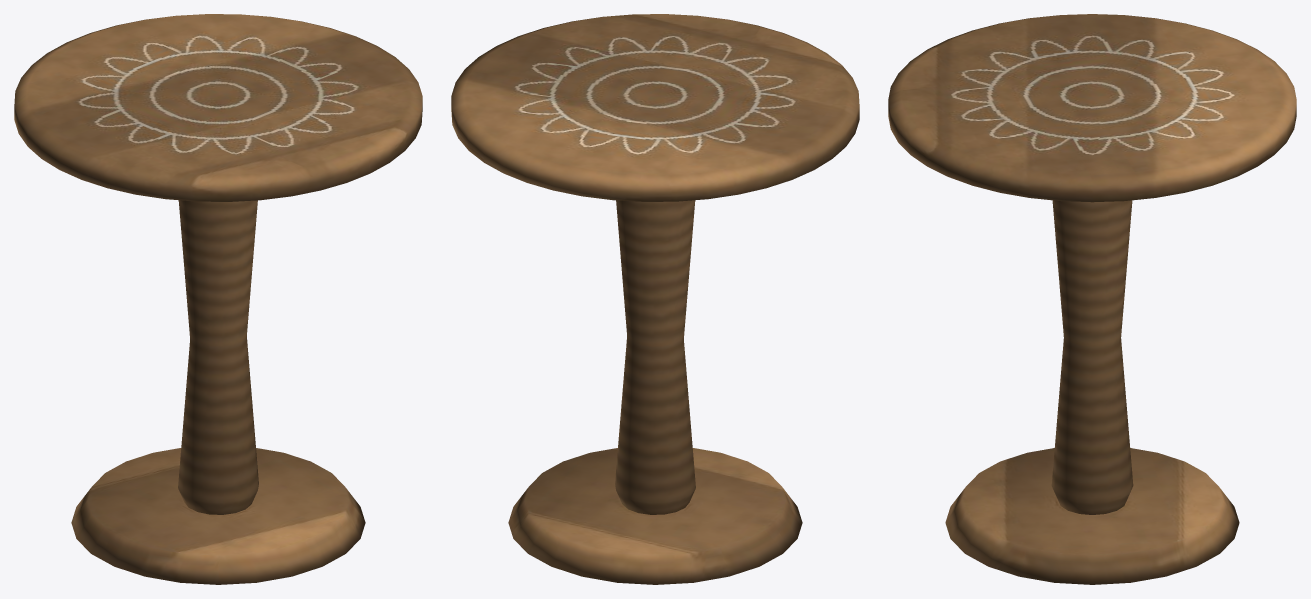
File: side_table.glb
3 renders of one model, left to right at view 1: azimuth 30°, elevation 25°; view 2: azimuth 150°, elevation 25°; view 3: azimuth 270°, elevation 25°, orthographic.
Parts seen in each view (by area): view 1: prop_side_table_wood; view 2: prop_side_table_wood; view 3: prop_side_table_wood.
Part boxes in pixels (<box>): prop_side_table_wood: <box>14,14,422,584</box>; prop_side_table_wood: <box>451,14,859,584</box>; prop_side_table_wood: <box>888,14,1296,584</box>.
Size of the model in its own units: 1 by 1.15 by 1.
1 material, 1 textured.
